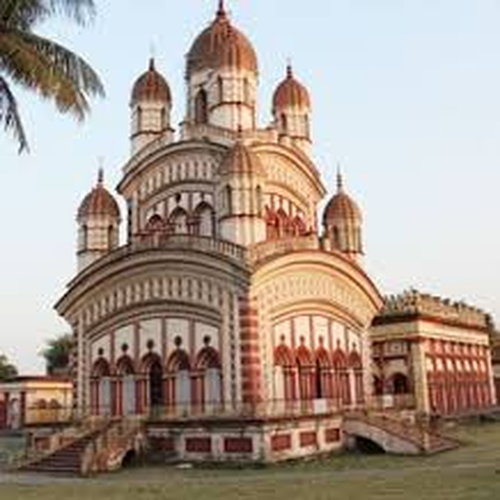Temple: (59, 6, 377, 445)
